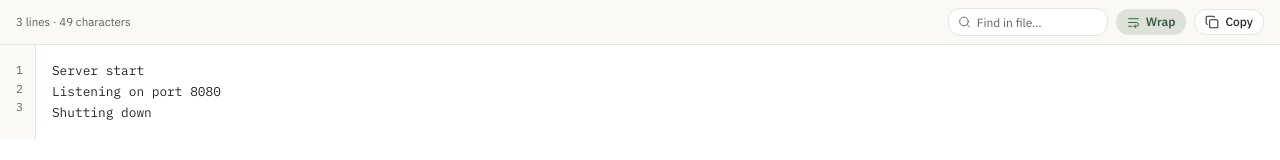
Test: Document Viewers for all artifact types › TextDocViewer › renders text with line numbers and supports search filtering
Check: the text "Listening on port 8080" is shown, box [52,83,221,100]
Check: the text "3 lines · 49 characters" is shown, box [16,14,131,30]
In the field with placeholder "Find in file…": (1028, 22) [948,8,1108,36], type "port"
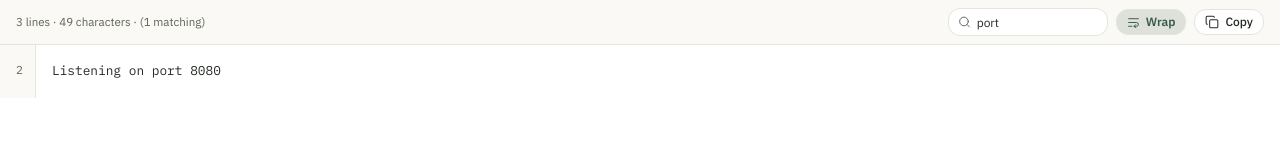
Check: the text "Listening on port 8080" is shown, box [52,62,221,79]
Check: the text "Server start" is gone
